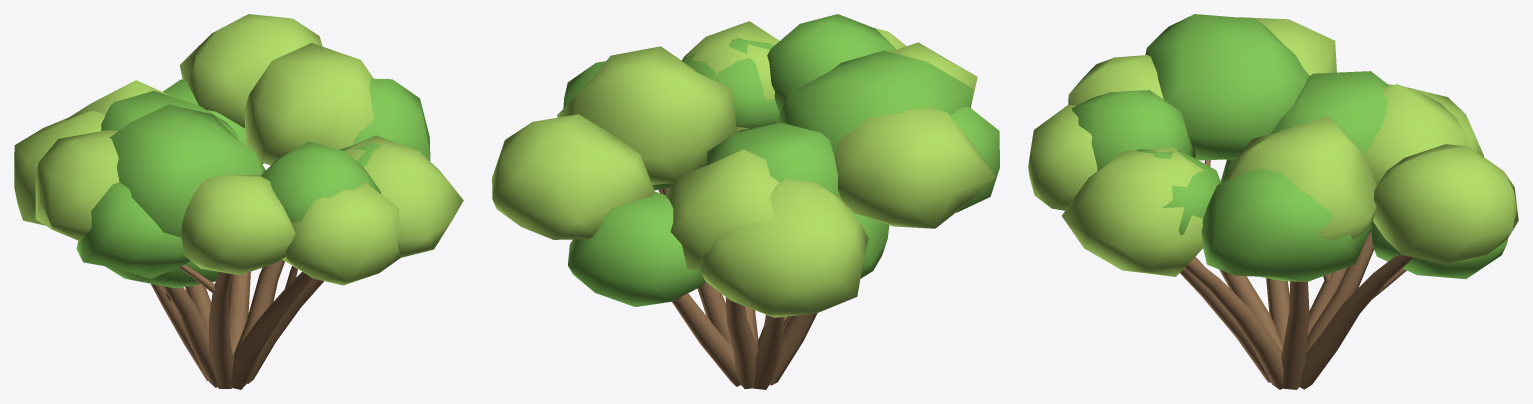
The model's file is Bush_B.fbx.
3 views of the same model, side by side, from view 1: azimuth 30°, elevation 25°; view 2: azimuth 150°, elevation 25°; view 3: azimuth 270°, elevation 25° (orthographic). The views are drawn at different scales.
Parts seen in each view (by area): view 1: Bush_B; view 2: Bush_B; view 3: Bush_B.
Part boxes in pixels (<box>): Bush_B: <box>14,14,463,389</box>; Bush_B: <box>492,14,999,389</box>; Bush_B: <box>1028,14,1518,389</box>.
Bounding box in the file's own units: 1.87 × 1.39 × 2.
